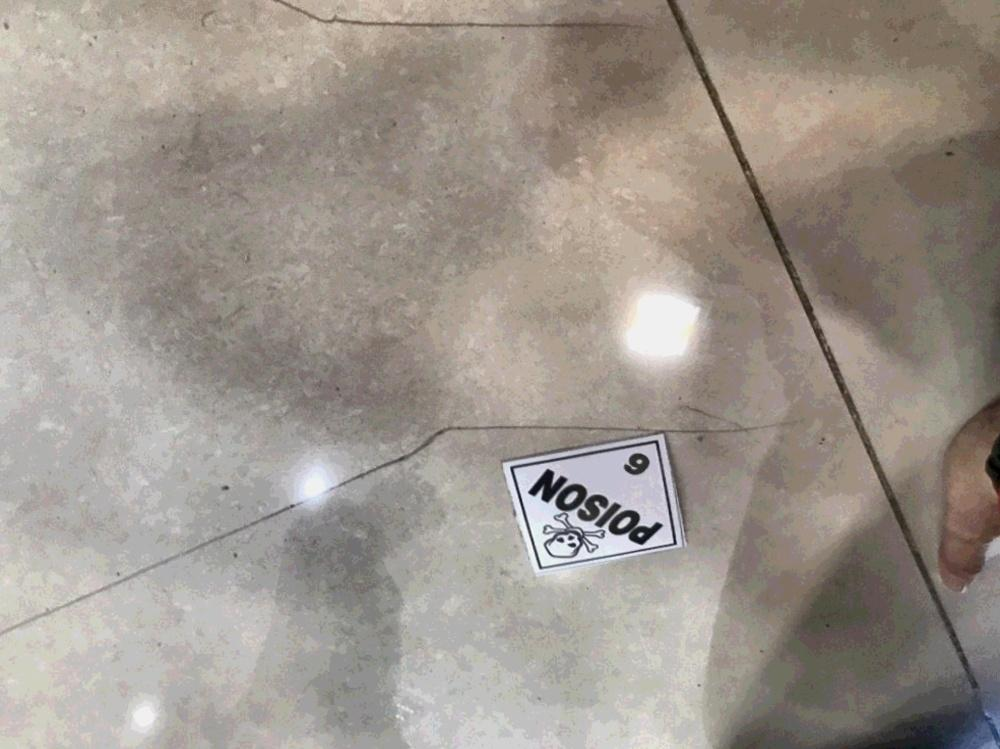poison: (500, 429, 685, 576)
